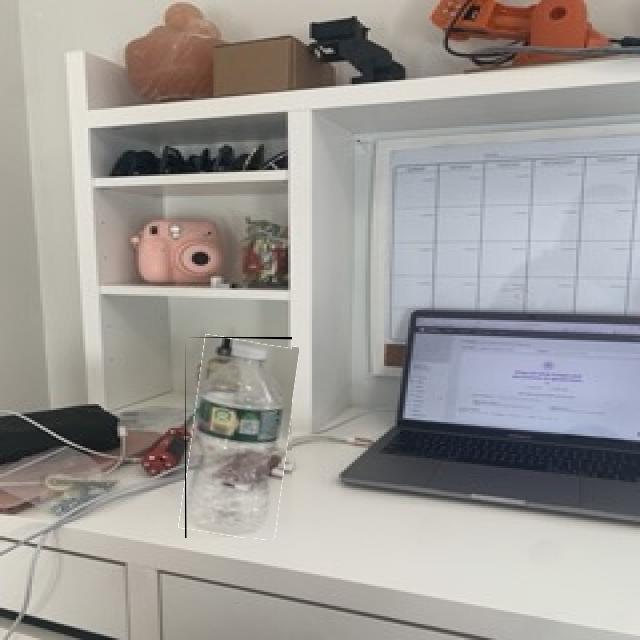water_bottle: (185, 337, 292, 538)
